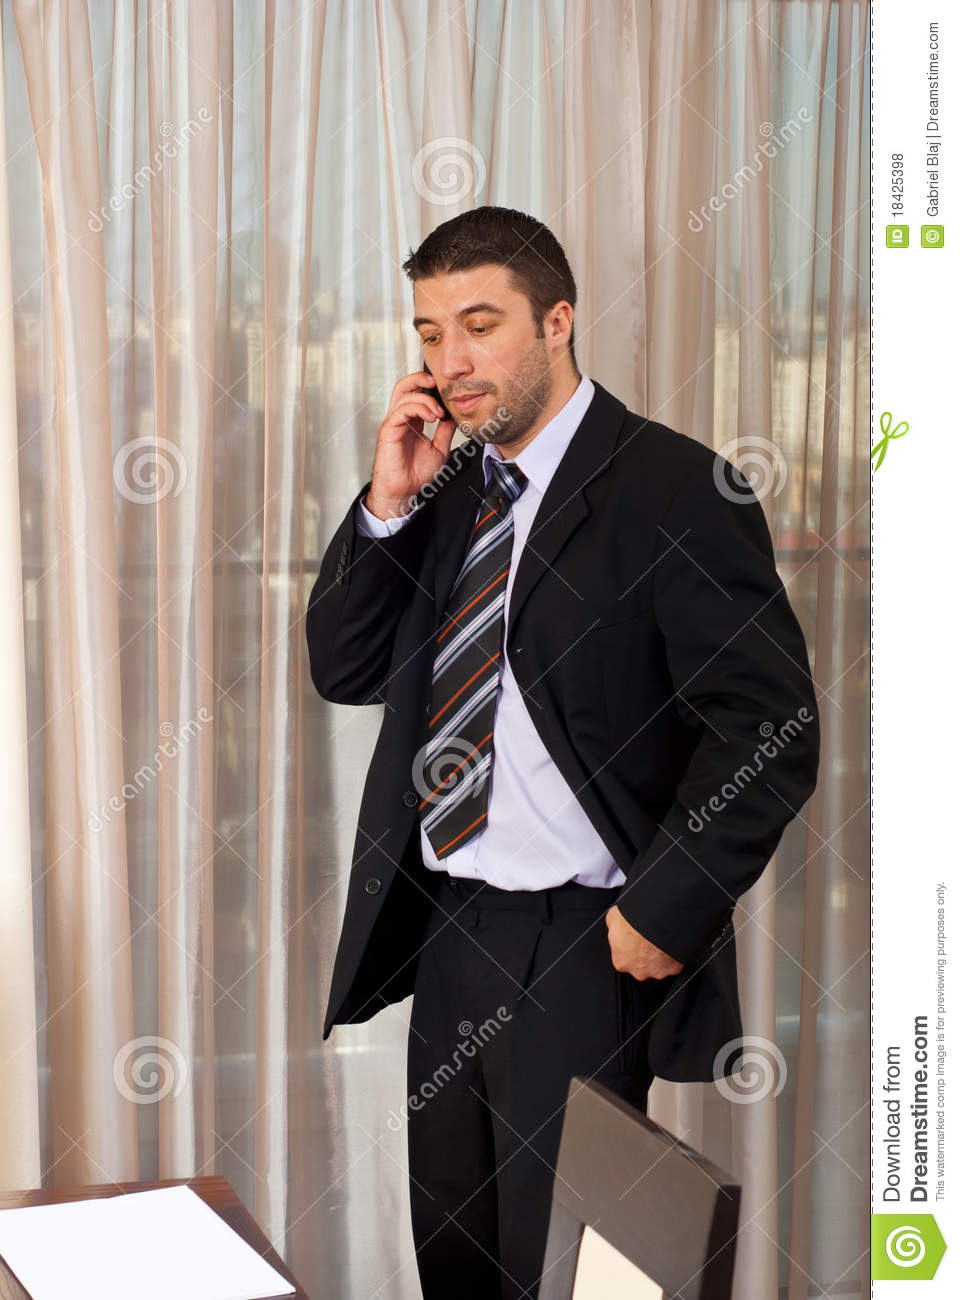talk: (369, 295, 514, 506)
